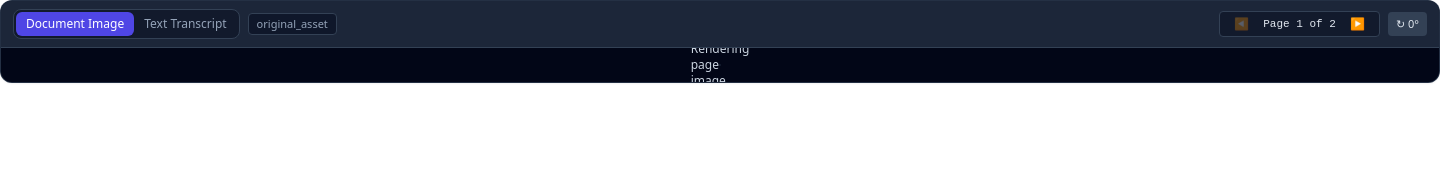
Scenario: DocumentSourceViewer › rotates document page and updates rotation angle
Step 1. Click the button with test id "rotate-btn" → (1407, 24), box top-left (1388, 12), bottom-right (1427, 36)
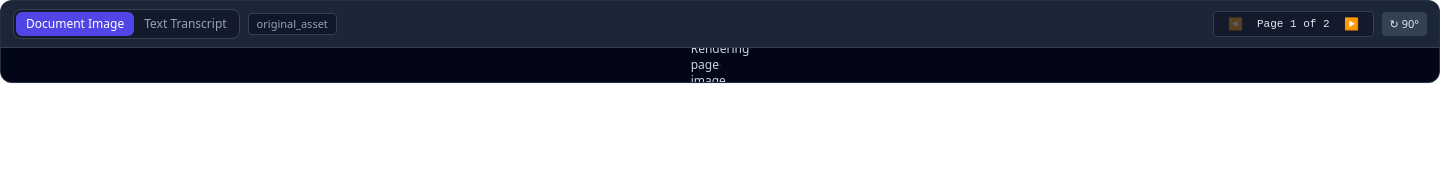
Check: the button with test id "rotate-btn" reads "↻ 90°"
Step 2. Click the button with test id "rotate-btn" → (1404, 24), box top-left (1382, 12), bottom-right (1427, 36)
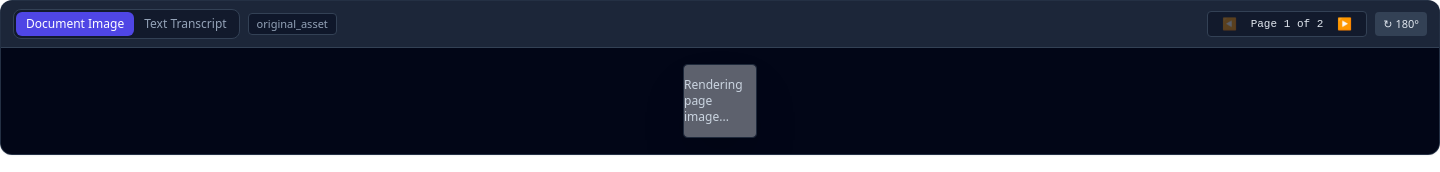
Check: the button with test id "rotate-btn" reads "↻ 180°", box top-left (1375, 12), bottom-right (1427, 36)
